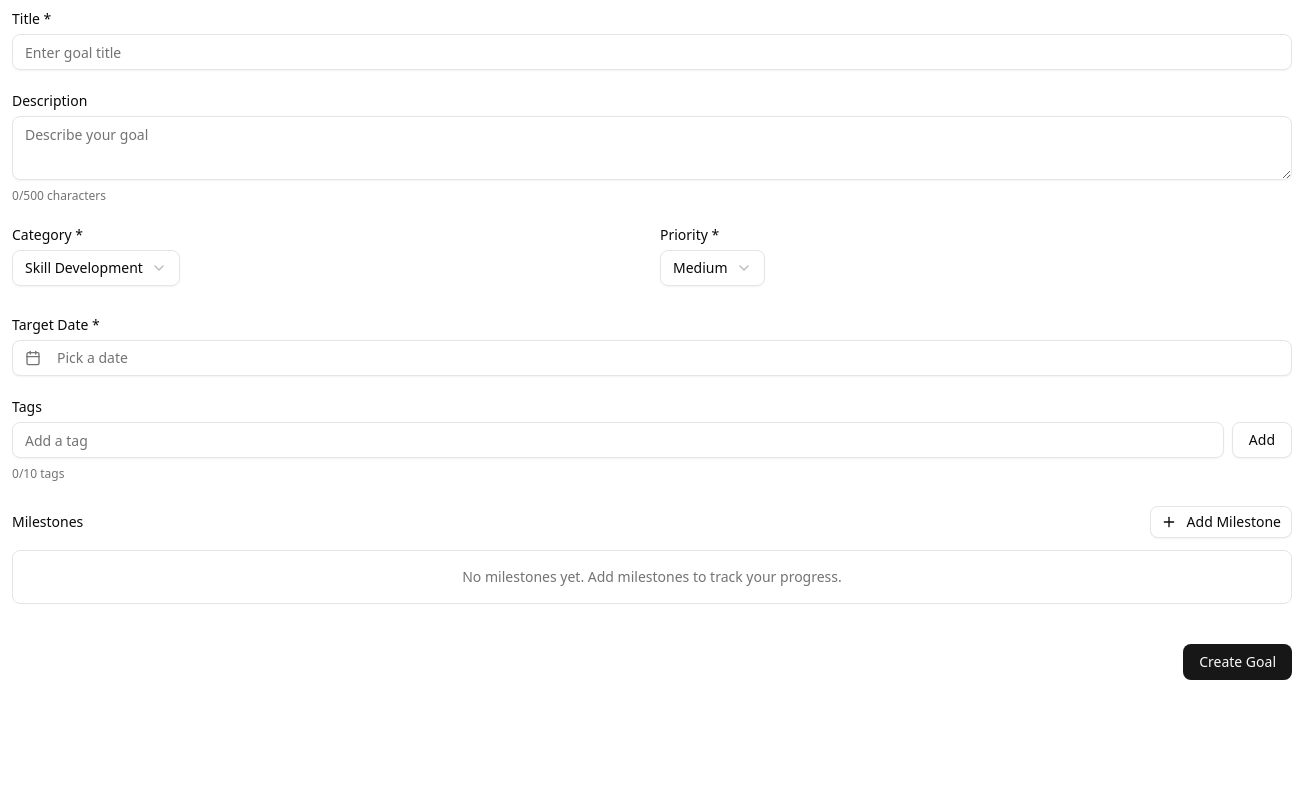
Scenario: GoalForm Component › Create Mode › shows validation error for missing target date
Type "Valid Title" into the field labelled "Title *".
click(652, 52); type("Valid Title")  # box [12,34,1292,70]
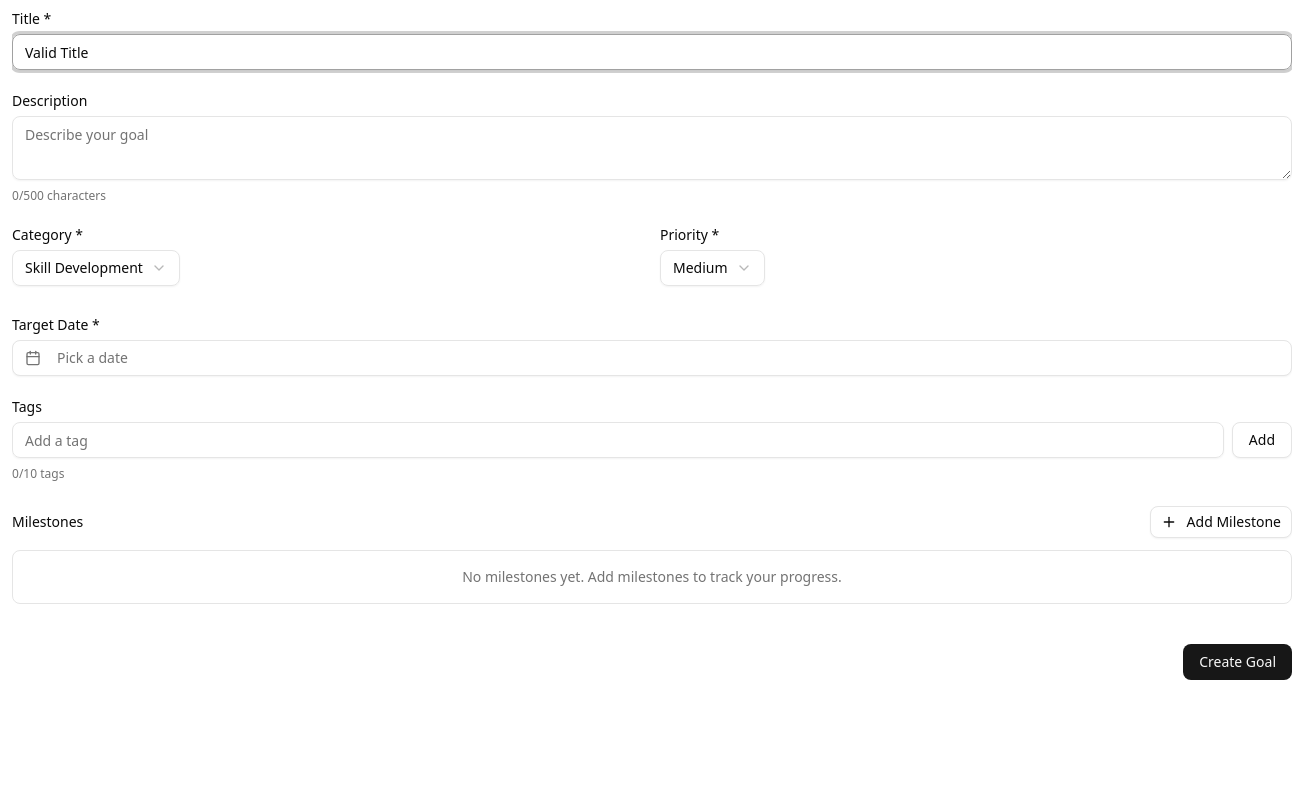
Click the button "Create Goal".
click(1238, 662)  # box [1183,644,1292,680]
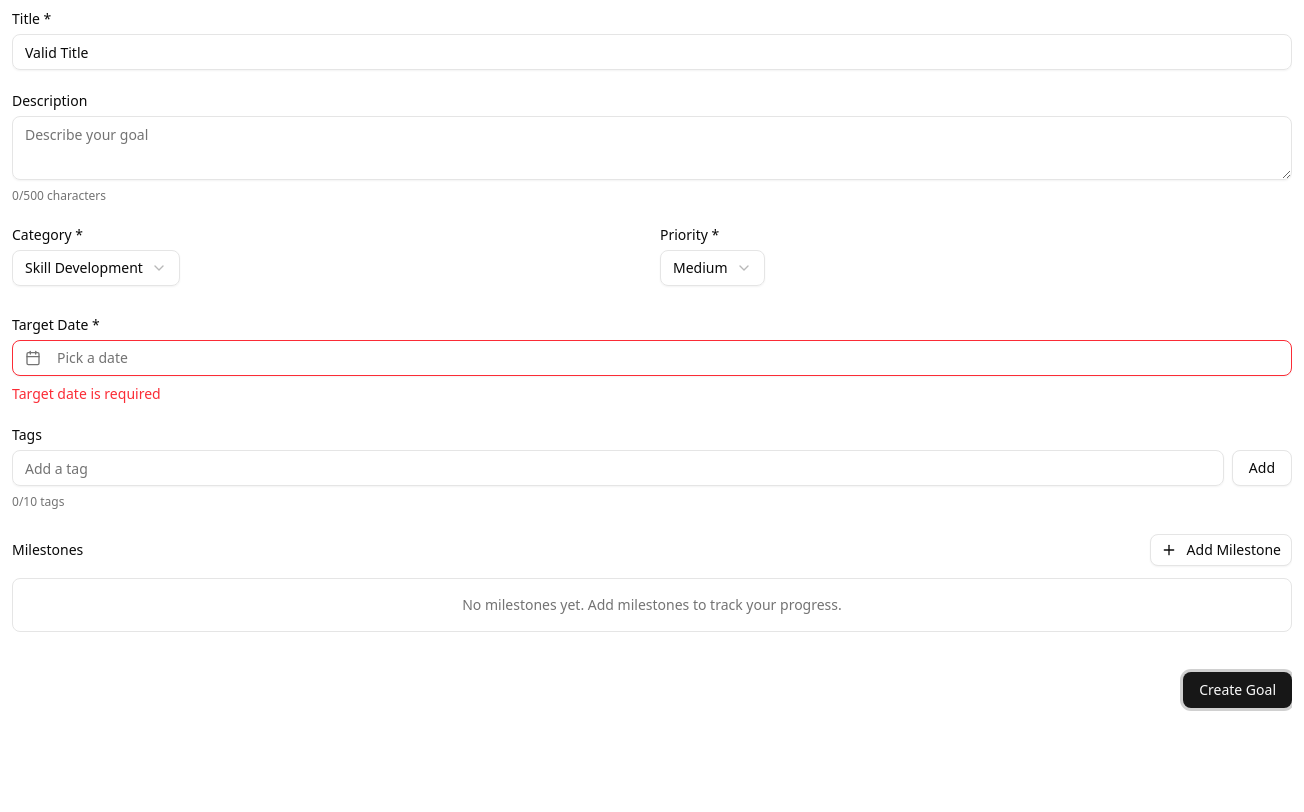
Result: the text "Target date is required" is shown at [12,384,161,403]
